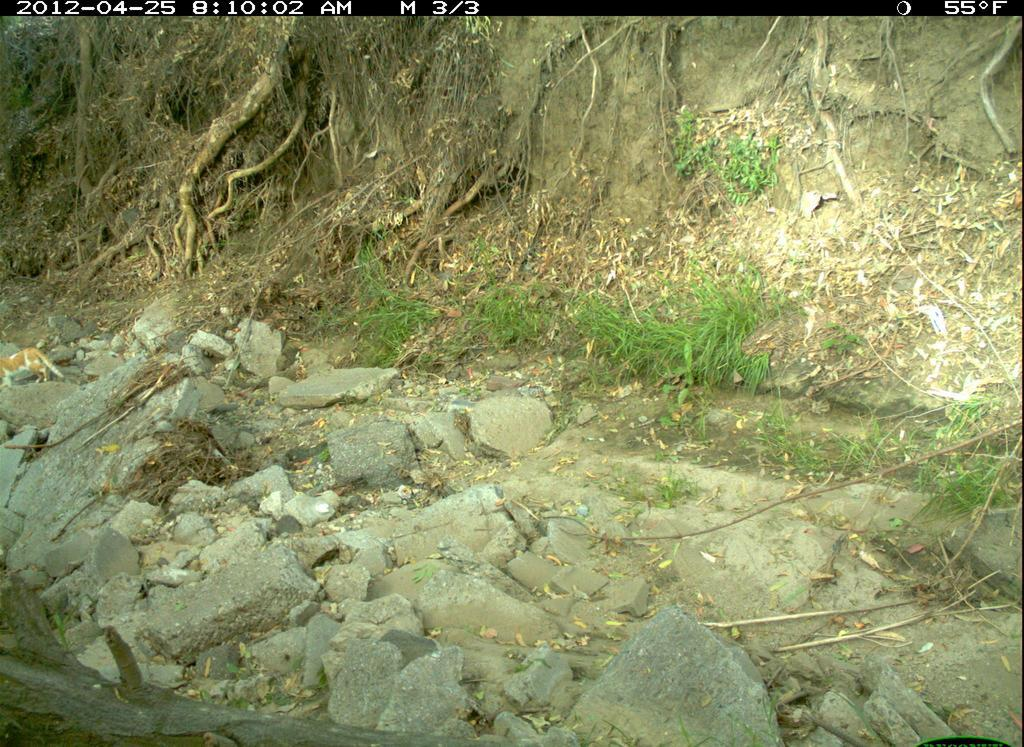cat: (1, 345, 67, 393)
